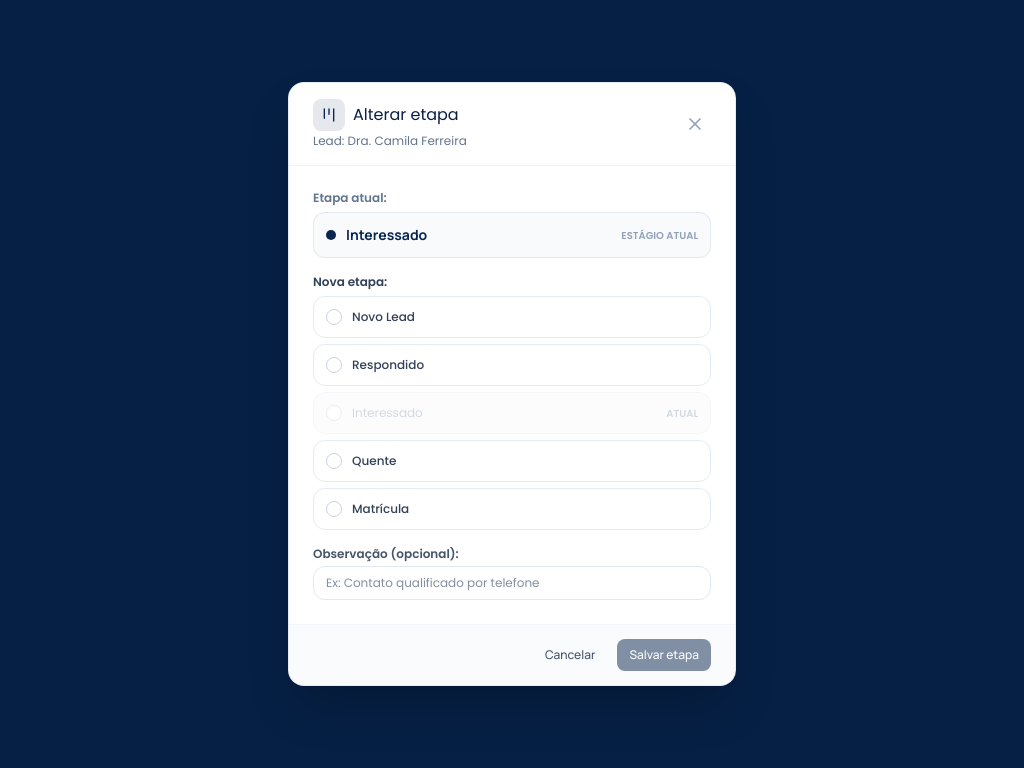
it: EDS HUB — Stage Edit + Pipeline Drag & Drop Suite › 3. Stage Movement Persistence & Atomic RPC › shows error banner "Não foi possível atualizar a etapa." when move_lead_stage fails
The width and height of the screenshot is (1024, 768).
# Select "Matrícula" (s5)
Click the radio button with test id "stage-option-enrollment". click: coordinates (381, 508)
box: [313,488,711,530]
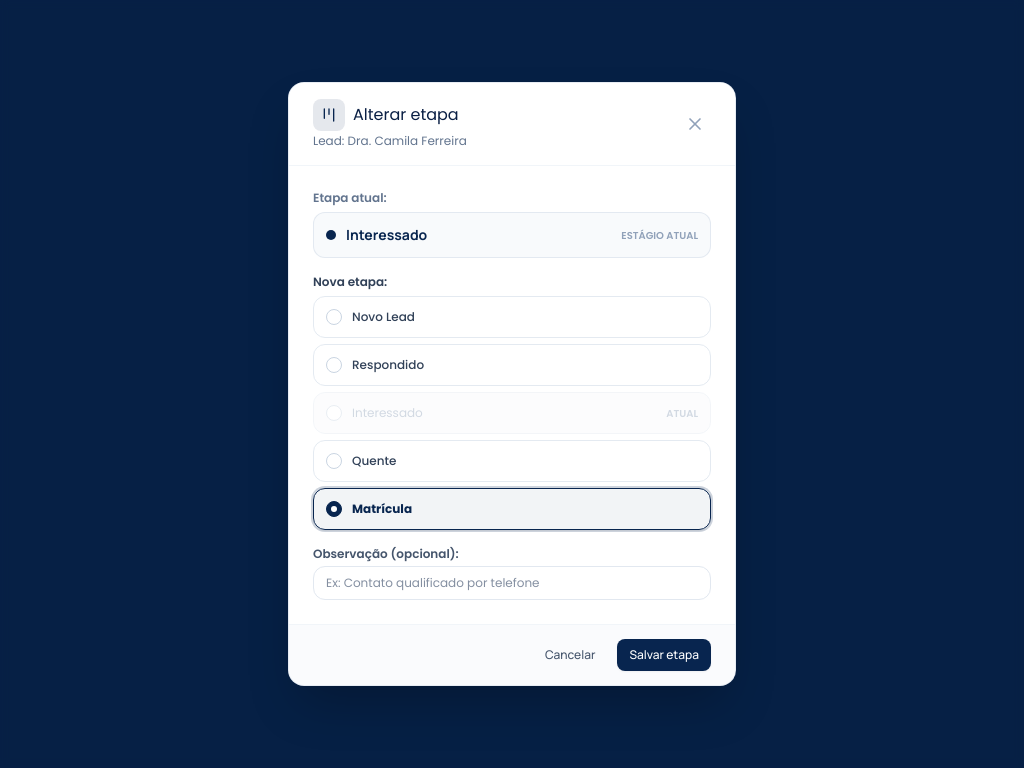
Click the button "Salvar etapa". click: coordinates (664, 655)
box: [617,639,711,671]
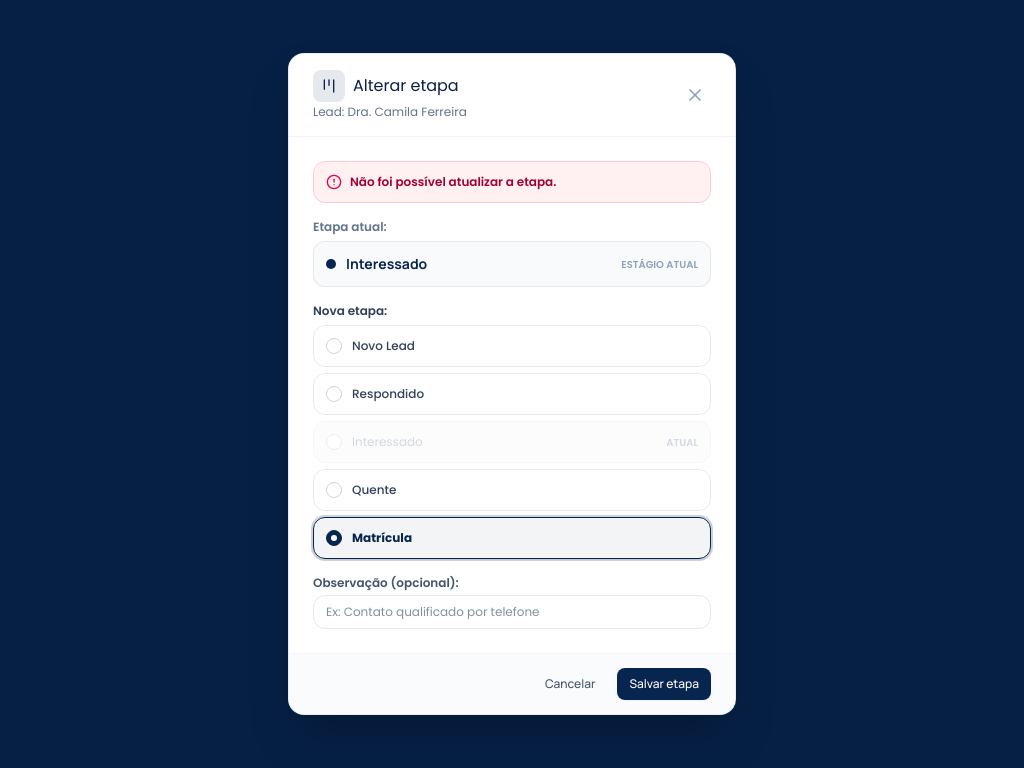
Expected: the message with test id "stage-update-error" reads "Não foi possível atualizar a etapa.", [350,173,556,190]
